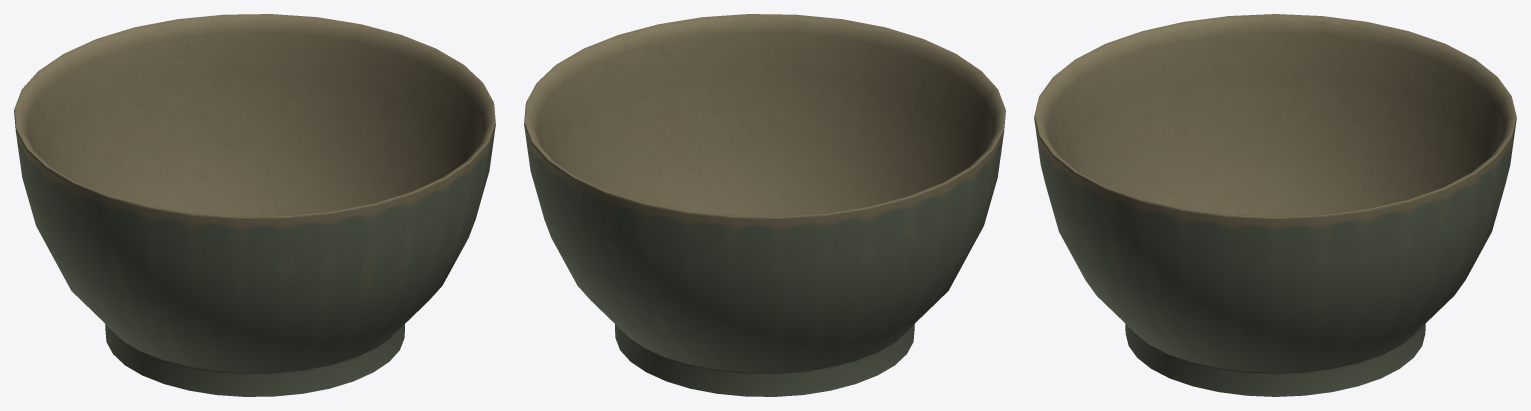
3 views of the same model, side by side, from view 1: azimuth 30°, elevation 25°; view 2: azimuth 150°, elevation 25°; view 3: azimuth 270°, elevation 25° (orthographic).
Parts seen in each view (by area): view 1: pBowl; view 2: pBowl; view 3: pBowl.
Boxes of the visible parts, <box> form: pBowl: <box>14,14,495,396</box>; pBowl: <box>524,14,1005,396</box>; pBowl: <box>1034,14,1516,396</box>.
Size of the model in its own units: 0.153 by 0.0763 by 0.153.
